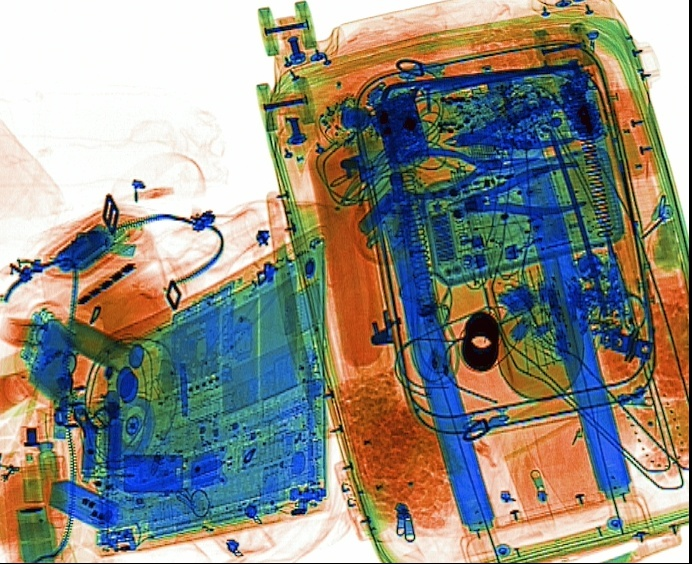powerbank: (42, 211, 143, 280)
